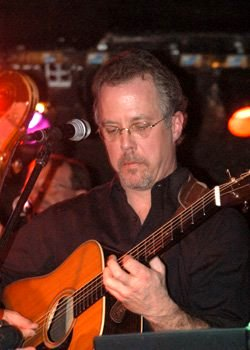guitar: (5, 174, 250, 350)
